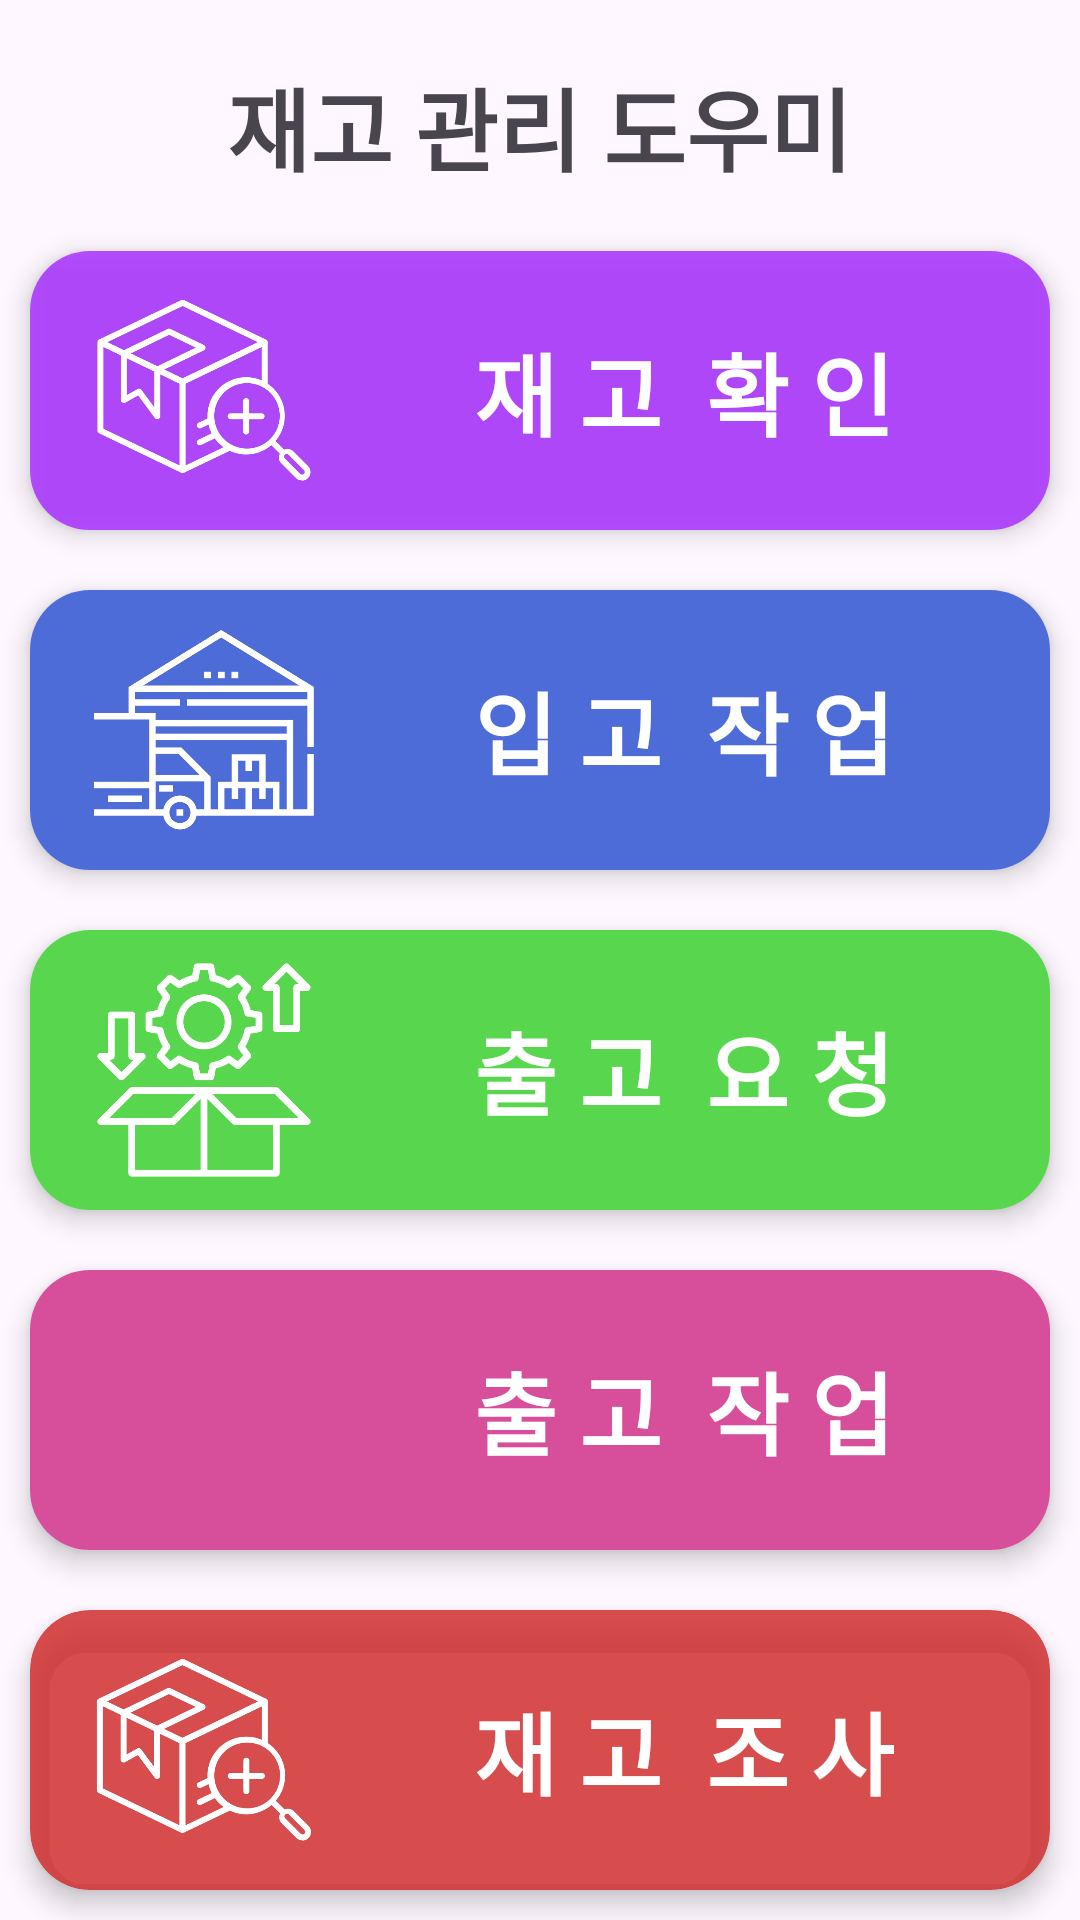

Locate icon controls on the screen. Image size 1080*1920, boxes as [left=x1, top=y1, right=x2, bottom=y2].
check: [left=97, top=300, right=311, bottom=481], [left=97, top=1659, right=311, bottom=1841]
release: [left=97, top=963, right=311, bottom=1177]
warehouse: [left=94, top=630, right=314, bottom=830]
